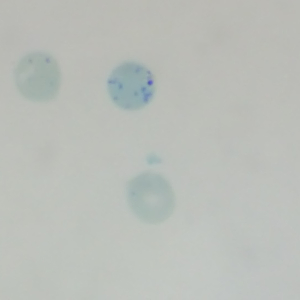aggregate reticulocyte: (105, 61, 157, 112)
punctate reticulocyte: (123, 170, 176, 226), (12, 50, 63, 102)
